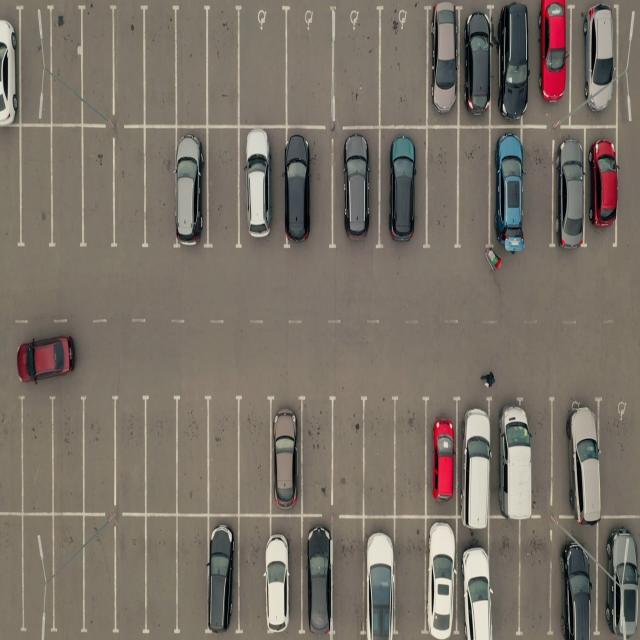space-empty: (238, 8, 289, 126), (377, 7, 425, 128), (287, 10, 337, 126), (333, 8, 381, 126), (45, 516, 87, 633), (46, 5, 86, 126), (142, 6, 180, 127), (601, 403, 640, 518), (78, 393, 116, 511), (15, 130, 52, 251), (77, 4, 114, 125), (113, 5, 150, 126), (175, 7, 212, 127), (205, 128, 242, 248), (205, 7, 242, 127), (49, 131, 86, 251), (458, 128, 494, 251), (142, 396, 180, 512), (78, 132, 115, 250), (79, 515, 116, 633), (17, 515, 54, 633), (16, 398, 53, 515), (115, 394, 152, 511), (141, 130, 177, 250), (112, 131, 148, 250), (177, 397, 214, 512), (52, 395, 88, 512), (176, 517, 212, 634), (142, 517, 178, 633), (238, 396, 274, 512), (234, 397, 270, 512), (520, 522, 556, 637), (205, 396, 240, 512), (396, 519, 430, 638), (331, 397, 366, 512), (116, 516, 150, 633), (424, 126, 457, 246), (302, 397, 337, 510), (394, 398, 428, 514), (360, 401, 394, 517), (332, 520, 366, 636), (298, 398, 332, 512), (524, 127, 556, 247), (15, 9, 48, 124), (488, 519, 520, 637), (0, 515, 24, 635), (0, 393, 24, 511), (0, 128, 22, 250)
space-occupied: (239, 514, 301, 634), (282, 130, 332, 251), (553, 396, 600, 518), (333, 130, 379, 249), (382, 125, 428, 244), (488, 127, 532, 251), (237, 124, 282, 245), (378, 130, 424, 248), (574, 1, 618, 124), (240, 129, 285, 249), (491, 396, 535, 516), (257, 513, 300, 634), (579, 4, 622, 124), (551, 534, 596, 639), (601, 519, 640, 637), (535, 1, 572, 122), (460, 398, 496, 518), (489, 128, 524, 251), (493, 4, 529, 123), (176, 130, 211, 250), (426, 6, 461, 126), (459, 519, 493, 639), (269, 396, 304, 512), (424, 397, 458, 516), (424, 519, 458, 637), (362, 517, 395, 638), (463, 7, 496, 125), (554, 130, 587, 247), (584, 127, 616, 241), (207, 516, 238, 632), (303, 523, 335, 634), (589, 131, 620, 245), (299, 523, 330, 635), (0, 6, 22, 125)
